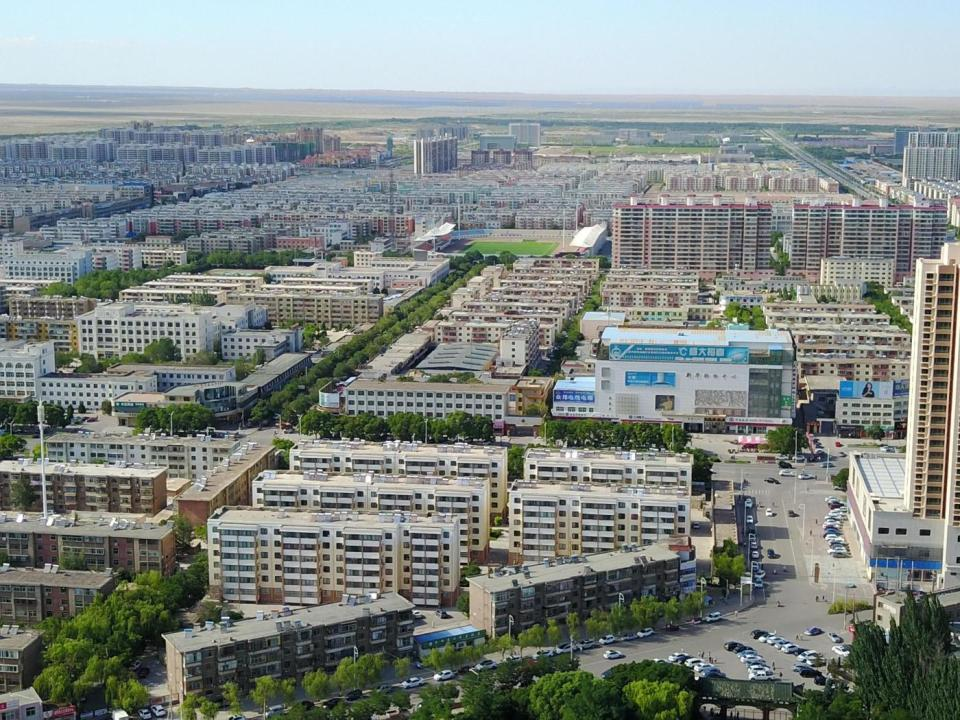bus: (369, 432, 394, 440)
car: (400, 677, 424, 689), (433, 669, 455, 682), (601, 667, 623, 680), (797, 650, 819, 662), (749, 671, 774, 681), (576, 638, 595, 651), (323, 698, 345, 709), (474, 660, 496, 671), (555, 643, 577, 654), (814, 675, 835, 686), (799, 668, 822, 678), (532, 650, 554, 660), (344, 689, 362, 701), (648, 658, 672, 667), (636, 626, 654, 638), (832, 645, 850, 657), (493, 684, 514, 694), (693, 662, 714, 672), (736, 649, 757, 659), (781, 643, 800, 654), (669, 652, 689, 662), (603, 650, 624, 659), (758, 632, 775, 643), (150, 704, 165, 716), (137, 708, 152, 720), (294, 700, 314, 709), (214, 697, 232, 707), (374, 683, 392, 693), (684, 658, 704, 667), (806, 657, 826, 666), (599, 634, 615, 645), (740, 654, 762, 662), (748, 664, 770, 672), (701, 667, 720, 676), (724, 642, 743, 651), (734, 645, 753, 654), (705, 612, 722, 622), (774, 639, 791, 649), (766, 636, 784, 645), (502, 656, 522, 664), (705, 672, 725, 680), (792, 663, 809, 672), (794, 648, 811, 657), (677, 656, 696, 664), (752, 630, 768, 639), (804, 627, 822, 635), (827, 632, 840, 643), (746, 660, 766, 667), (522, 661, 539, 669), (139, 667, 150, 679), (128, 660, 141, 670), (620, 633, 636, 641), (408, 609, 422, 618), (651, 607, 665, 616), (225, 714, 245, 720), (435, 609, 447, 619), (520, 680, 535, 688), (416, 659, 429, 668), (826, 534, 842, 541), (544, 435, 556, 444), (843, 645, 855, 654), (778, 470, 796, 476), (754, 570, 766, 579), (824, 514, 842, 520), (827, 548, 845, 554), (832, 552, 850, 558), (764, 477, 779, 484), (831, 544, 848, 550), (78, 688, 86, 700), (834, 506, 850, 512), (825, 528, 841, 534), (828, 538, 844, 544), (830, 541, 846, 547), (825, 518, 840, 524), (798, 473, 813, 479), (748, 527, 756, 538), (822, 523, 839, 528), (479, 439, 492, 445), (825, 496, 838, 502), (823, 532, 836, 538), (881, 448, 894, 454), (824, 525, 839, 530), (746, 515, 754, 524), (792, 454, 804, 460), (601, 440, 611, 447), (755, 578, 762, 588), (778, 463, 792, 468), (269, 412, 280, 418), (320, 438, 331, 444), (834, 484, 845, 490), (820, 462, 833, 467), (828, 500, 841, 505), (880, 446, 893, 451), (750, 540, 758, 548), (830, 510, 846, 514), (768, 549, 775, 558), (745, 498, 752, 507), (754, 562, 761, 571), (846, 582, 856, 588), (776, 455, 788, 460), (830, 504, 842, 509), (262, 418, 269, 426), (505, 516, 512, 524), (693, 521, 700, 529), (765, 508, 772, 516), (788, 510, 795, 518), (752, 550, 759, 558), (86, 417, 96, 422), (12, 428, 22, 433), (305, 383, 311, 391), (82, 417, 93, 421), (562, 330, 568, 336), (282, 401, 289, 406), (332, 327, 338, 332), (556, 345, 562, 350), (835, 442, 841, 447), (839, 451, 844, 457), (816, 444, 822, 448), (818, 448, 822, 454), (344, 328, 349, 332), (813, 438, 818, 442), (74, 417, 80, 420), (814, 442, 819, 445)
van: (263, 705, 284, 718)
